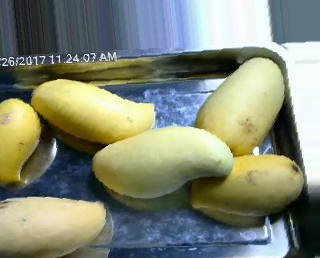Mango: (95, 125, 231, 198), (195, 59, 284, 155), (32, 79, 155, 142), (196, 152, 305, 216), (0, 195, 106, 256), (0, 98, 42, 182)
